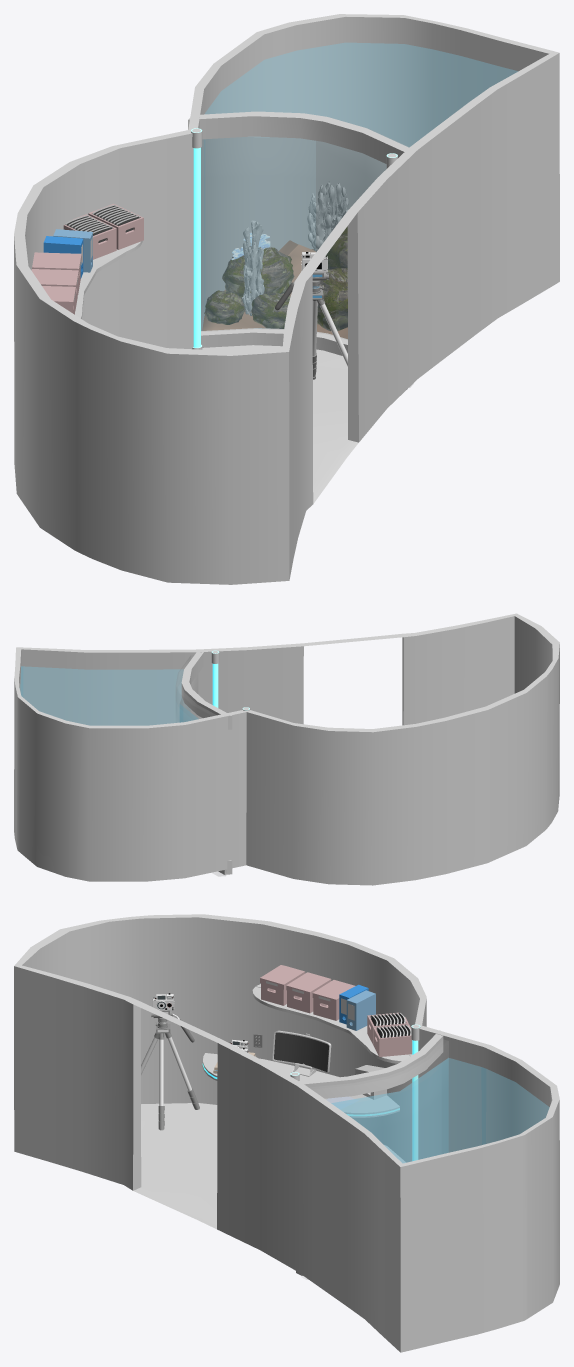
The model's file is labo_photo_final.fbx.
3 renders of one model, top to bottom at view 1: azimuth 30°, elevation 25°; view 2: azimuth 150°, elevation 25°; view 3: azimuth 270°, elevation 25°, orthographic. The views are drawn at different scales.
Visible parts, largest first — view 1: labo_photo, Cube.001, Cube, Cube.014, boite_archive_couv.002, Cube.005, Pierre.005, Cylinder, 0Coral12, 0Coral14, Pierre.007, Ecran_Interaction.001 (+7 smaller); view 2: labo_photo, Cube.001, Cube.014, Cube, Cylinder.001; view 3: labo_photo, Cube.001, Cube, boite_archive_couv.002, Cube.014, labo_chimie.002, Ecran_Interaction, trepied.001, labo_photo.001, Ecran_Interaction.001, Cube.009, Cylinder (+1 smaller).
Part boxes in pixels (x1,y1,x2,y2): labo_photo: [14, 14, 559, 584]; Cube.001: [201, 43, 517, 338]; Cube: [201, 129, 412, 387]; Cube.014: [188, 111, 408, 163]; boite_archive_couv.002: [31, 252, 81, 314]; Cube.005: [201, 328, 407, 389]; Pierre.005: [222, 247, 294, 297]; Cylinder: [191, 128, 202, 349]; 0Coral12: [307, 181, 348, 251]; 0Coral14: [242, 220, 264, 315]; Pierre.007: [317, 268, 347, 330]; Ecran_Interaction.001: [88, 203, 143, 249]; labo_photo: [14, 613, 559, 885]; Cube.001: [20, 666, 198, 725]; Cube.014: [181, 652, 232, 729]; Cube: [176, 656, 225, 876]; Cylinder.001: [211, 650, 219, 707]; labo_photo: [14, 914, 559, 1352]; Cube.001: [331, 1058, 549, 1163]; Cube: [301, 1054, 441, 1279]; boite_archive_couv.002: [260, 965, 355, 1020]; Cube.014: [299, 1030, 443, 1098]; labo_chimie.002: [202, 1053, 399, 1117]; Ecran_Interaction: [272, 1030, 331, 1073]; trepied.001: [141, 1010, 199, 1130]; labo_photo.001: [252, 984, 412, 1063]; Ecran_Interaction.001: [373, 1024, 412, 1056]; Cube.009: [346, 990, 375, 1030]; Cylinder: [411, 1024, 420, 1160].
Size of the model in its own units: 8.8 by 8.01 by 3.15.
